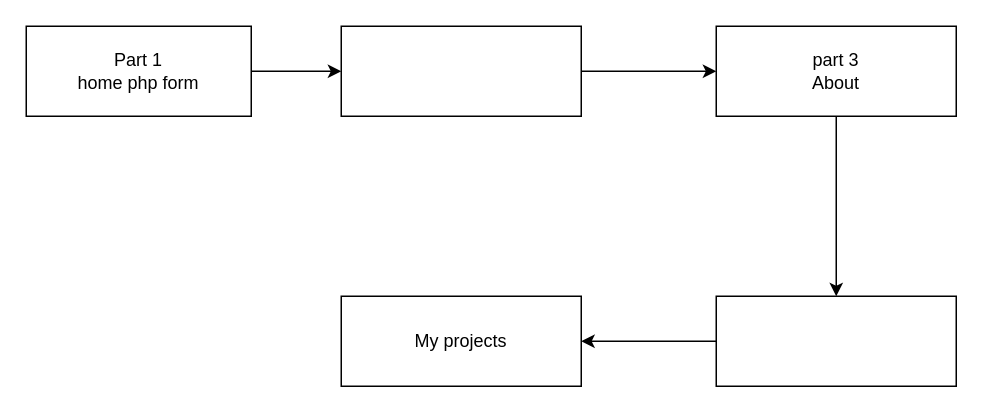
This 983x413 diagram has some shape labels left out. The shapes that lost their labels are listed below. From the top down, each one's centre as x and y in pixels, then its label:
At (460,70): "part 2 skills php form".
At (835,340): "part 4 Contact me".
